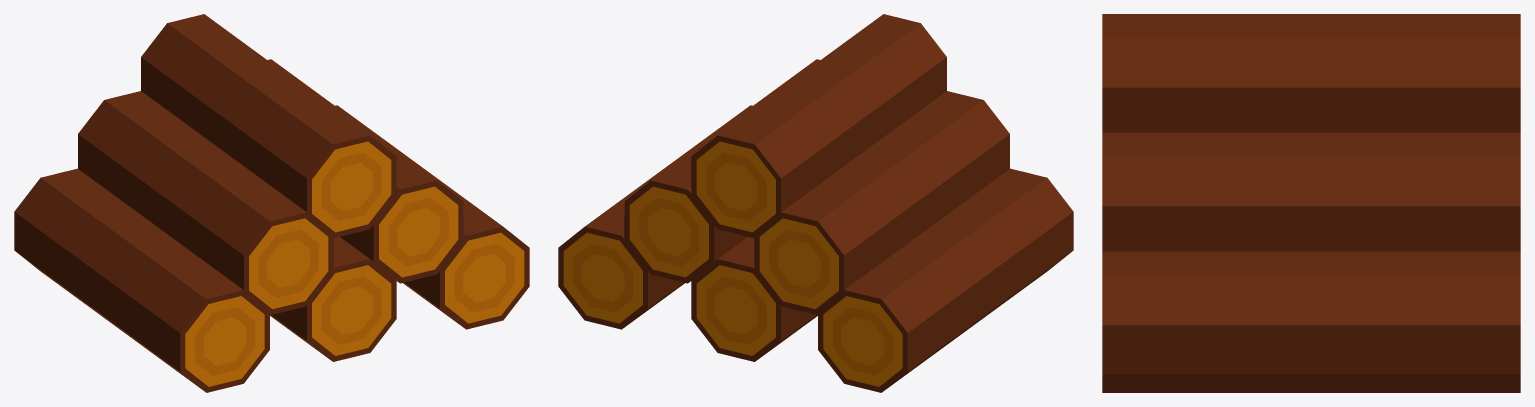
Rendered from Small Log_27.fbx.
3 views of the same model, side by side, from view 1: azimuth 30°, elevation 25°; view 2: azimuth 150°, elevation 25°; view 3: azimuth 270°, elevation 25° (orthographic). The views are drawn at different scales.
Parts seen in each view (by area): view 1: Circle.457; view 2: Circle.457; view 3: Circle.457.
Part boxes in pixels (x1=…): Circle.457: x1=14, y1=14, x2=529, y2=392; Circle.457: x1=558, y1=14, x2=1073, y2=392; Circle.457: x1=1102, y1=14, x2=1520, y2=392.
Size of the model in its own units: 28.63 by 17.04 by 23.54.
